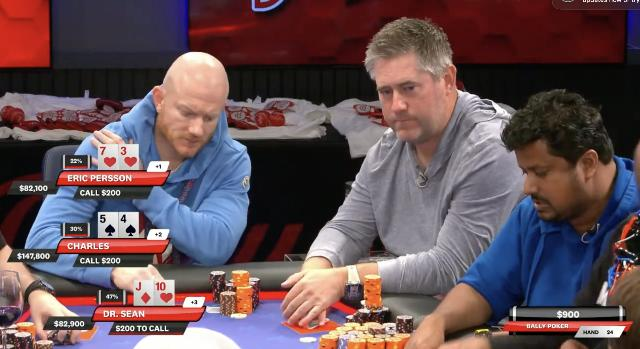10H: (154, 280, 174, 306)
3H: (119, 144, 138, 170)
4S: (120, 214, 138, 239)
5S: (98, 212, 118, 238)
7H: (99, 146, 118, 170)
JD: (135, 280, 153, 306)
